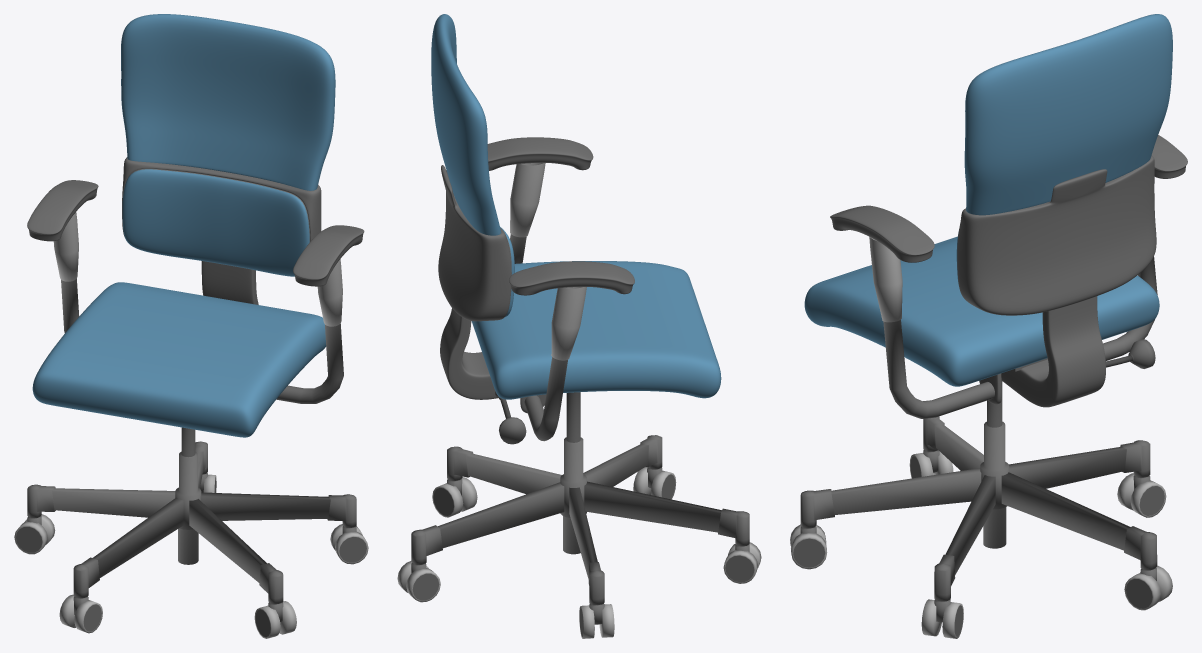
Rendered from officechair.fbx.
The picture shows the model from 3 angles, left to right: view 1: azimuth 30°, elevation 25°; view 2: azimuth 150°, elevation 25°; view 3: azimuth 270°, elevation 25°; orthographic projection. The views are drawn at different scales.
Parts seen in each view (by area): view 1: seat, wheels, support; view 2: seat, wheels, support; view 3: seat, wheels, support.
Boxes of the visible parts, x1=… form: seat: x1=27, y1=14, x2=364, y2=437; wheels: x1=14, y1=441, x2=368, y2=638; support: x1=53, y1=212, x2=343, y2=564; seat: x1=431, y1=14, x2=721, y2=413; wheels: x1=397, y1=435, x2=761, y2=638; support: x1=495, y1=163, x2=586, y2=554; seat: x1=804, y1=14, x2=1187, y2=407; wheels: x1=790, y1=416, x2=1172, y2=638; support: x1=869, y1=237, x2=1157, y2=548.
Size of the model in its own units: 0.7587 by 1.19 by 0.7575.
